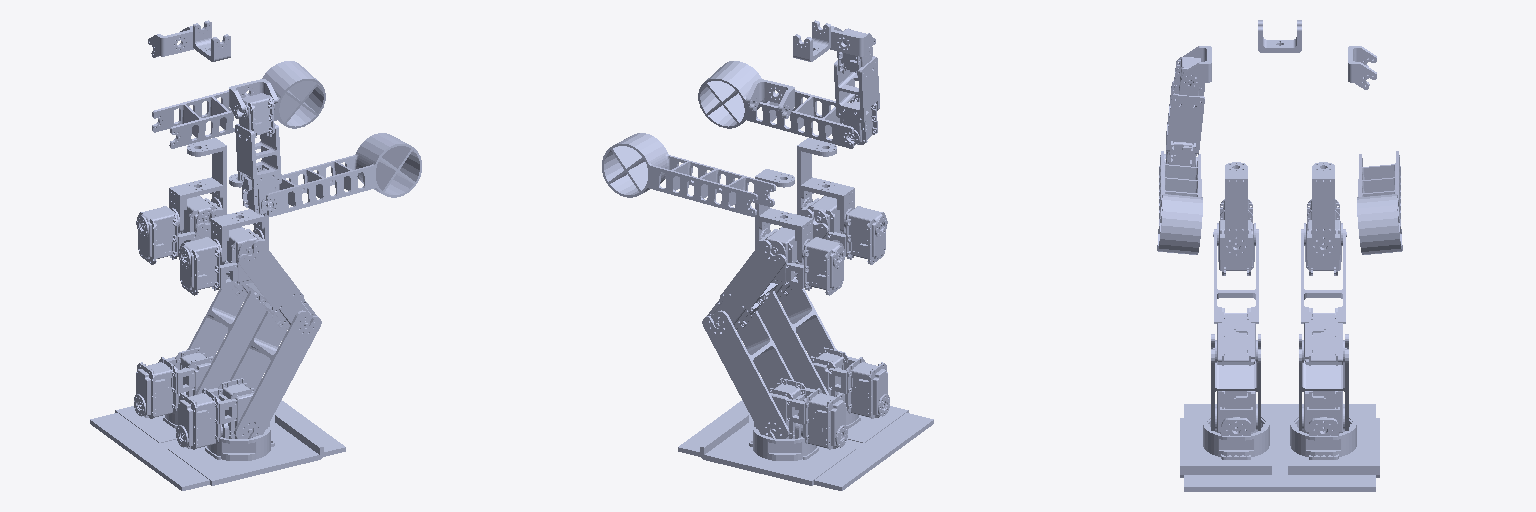
--- Render facts (derived) ---
Views: 3 orthographic renders of the robot side by side, from view 1: azimuth 30°, elevation 25°; view 2: azimuth 150°, elevation 25°; view 3: azimuth 270°, elevation 25°.
Model kubot23W with 23 links and 22 joints (22 revolute), rooted at base_link, posed every joint at zero.
Visible links, largest first — view 1: R_hand_pitch, L_hand_pitch, R_Knee, L_Knee, R_elbow_roll, R_Ankle_roll, R_Ankle_pitch, R_Foot, L_Ankle_pitch, R_Hip_roll, L_Hip_roll, R_Hip_pitch (+7 smaller); view 2: L_hand_pitch, R_hand_pitch, L_Knee, R_Knee, L_Ankle_roll, L_Foot, L_Ankle_pitch, R_Ankle_pitch, R_elbow_roll, L_Hip_roll, R_Hip_roll, L_Hip_pitch (+7 smaller); view 3: L_Foot, R_Foot, L_hand_pitch, R_hand_pitch, R_elbow_roll, L_Hip_pitch, R_Hip_pitch, L_Ankle_roll, R_Ankle_roll, L_Hip_yaw, R_Hip_yaw, L_Ankle_pitch (+8 smaller).
Boxes of the visible links, bbox=[...] form: R_hand_pitch: bbox=[266, 133, 421, 216]; L_hand_pitch: bbox=[152, 61, 325, 148]; R_Knee: bbox=[230, 310, 321, 438]; L_Knee: bbox=[187, 287, 266, 394]; R_elbow_roll: bbox=[235, 93, 281, 214]; R_Ankle_roll: bbox=[168, 414, 323, 485]; R_Ankle_pitch: bbox=[176, 378, 274, 449]; R_Foot: bbox=[132, 411, 345, 490]; L_Ankle_pitch: bbox=[134, 347, 213, 418]; R_Hip_roll: bbox=[179, 227, 264, 295]; L_Hip_roll: bbox=[136, 196, 222, 264]; R_Hip_pitch: bbox=[237, 226, 316, 329]; L_hand_pitch: bbox=[602, 133, 775, 216]; R_hand_pitch: bbox=[698, 61, 854, 148]; L_Knee: bbox=[702, 310, 793, 438]; R_Knee: bbox=[757, 287, 836, 394]; L_Ankle_roll: bbox=[700, 414, 855, 485]; L_Foot: bbox=[678, 412, 891, 490]; L_Ankle_pitch: bbox=[749, 378, 847, 449]; R_Ankle_pitch: bbox=[810, 347, 889, 418]; R_elbow_roll: bbox=[834, 28, 879, 144]; L_Hip_roll: bbox=[759, 227, 844, 295]; R_Hip_roll: bbox=[801, 196, 887, 264]; L_Hip_pitch: bbox=[707, 226, 786, 329]; L_Foot: bbox=[1272, 404, 1375, 491]; R_Foot: bbox=[1184, 404, 1287, 491]; L_hand_pitch: bbox=[1357, 151, 1402, 254]; R_hand_pitch: bbox=[1157, 151, 1202, 254]; R_elbow_roll: bbox=[1164, 57, 1204, 166]; L_Hip_pitch: bbox=[1301, 229, 1346, 365]; R_Hip_pitch: bbox=[1213, 229, 1258, 365]; L_Ankle_roll: bbox=[1288, 418, 1379, 477]; R_Ankle_roll: bbox=[1180, 418, 1271, 477]; L_Hip_yaw: bbox=[1312, 162, 1334, 259]; R_Hip_yaw: bbox=[1225, 162, 1247, 259]; L_Ankle_pitch: bbox=[1302, 391, 1344, 459].
Bounding box of the posed robot: 0.3273 × 0.2945 × 0.5607 m (x, y, z).
20 mesh visuals loaded from 23 distinct referenced files (20 binary STL); not drawn: 3 (reference not matched to a file when rendering).

The robot description file, URDF, robot "kubot23W":
<?xml version="1.0" encoding="utf-8"?>
<!-- This URDF was automatically created by SolidWorks to URDF Exporter! Originally created by Stephen Brawner ([email redacted]) 
     Commit Version: 1.6.0-1-g15f4949  Build Version: 1.6.7594.29634
     For more information, please see http://wiki.ros.org/sw_urdf_exporter -->
<robot
  name="kubot23W">
  <link
    name="base_link">
    <inertial>
      <origin
        xyz="-0.00019555 -5.8876E-06 -0.0016409"
        rpy="0 0 0" />
      <mass
        value="1.5013" />
      <inertia
        ixx="0.002447"
        ixy="0"
        ixz="0"
        iyy="0.0016369"
        iyz="0"
        izz="0.0026461" />
    </inertial>
    <visual>
      <origin
        xyz="0 0 0"
        rpy="0 0 0" />
      <geometry>
        <mesh
          filename="../meshes/base_link.STL" />
      </geometry>
      <material
        name="">
        <color
          rgba="0.79216 0.81961 0.93333 1" />
      </material>
    </visual>
    <collision>
      <origin
        xyz="0 0 0"
        rpy="0 0 0" />
      <geometry>
        <mesh
          filename="../meshes/base_link.STL" />
      </geometry>
    </collision>
  </link>
  <link
    name="L_Hip_yaw">
    <inertial>
      <origin
        xyz="0.0079905 7.3552E-16 0.037856"
        rpy="0 0 0" />
      <mass
        value="0.042373" />
      <inertia
        ixx="2.0934E-05"
        ixy="0"
        ixz="0"
        iyy="2.3301E-05"
        iyz="0"
        izz="8.0568E-06" />
    </inertial>
    <visual>
      <origin
        xyz="0 0 0"
        rpy="0 0 0" />
      <geometry>
        <mesh
          filename="../meshes/L_Hip_yaw.STL" />
      </geometry>
      <material
        name="">
        <color
          rgba="0.79216 0.81961 0.93333 1" />
      </material>
    </visual>
    <collision>
      <origin
        xyz="0 0 0"
        rpy="0 0 0" />
      <geometry>
        <mesh
          filename="../meshes/L_Hip_yaw.STL" />
      </geometry>
    </collision>
  </link>
  <joint
    name="L_Hip_yaw_joint"
    type="revolute">
    <origin
      xyz="0.036475 0.052758 -0.13016"
      rpy="0 0 0" />
    <parent
      link="base_link" />
    <child
      link="L_Hip_yaw" />
    <axis
      xyz="0 0 1" />
    <limit command_effort="40" current="10" effort="80" gear_velocity="10" lower="-0.01" upper="0.01" velocity="15"/>
    <dynamics damping="0.707" friction="0.1"/>
  </joint>
  <link
    name="L_Hip_roll">
    <inertial>
      <origin
        xyz="-0.026534 3.8609E-05 -0.015186"
        rpy="0 0 0" />
      <mass
        value="0.16184" />
      <inertia
        ixx="5.7094E-05"
        ixy="0"
        ixz="0"
        iyy="5.6447E-05"
        iyz="0"
        izz="3.5594E-05" />
    </inertial>
    <visual>
      <origin
        xyz="0 0 0"
        rpy="0 0 0" />
      <geometry>
        <mesh
          filename="../meshes/L_Hip_roll.STL" />
      </geometry>
      <material
        name="">
        <color
          rgba="0.79216 0.81961 0.93333 1" />
      </material>
    </visual>
    <collision>
      <origin
        xyz="0 0 0"
        rpy="0 0 0" />
      <geometry>
        <mesh
          filename="../meshes/L_Hip_roll.STL" />
      </geometry>
    </collision>
  </link>
  <joint
    name="L_Hip_roll_joint"
    type="revolute">
    <origin
      xyz="0 0 0"
      rpy="0 0 0" />
    <parent
      link="L_Hip_yaw" />
    <child
      link="L_Hip_roll" />
    <axis
      xyz="-1 0 0" />
    <limit command_effort="40" current="10" effort="80" gear_velocity="10" lower="-0.3" upper="0.175" velocity="15"/>
    <dynamics damping="0.707" friction="0.1"/>
  </joint>
  <link
    name="L_Hip_pitch">
    <inertial>
      <origin
        xyz="-0.00049308 0.00014975 -0.10339"
        rpy="0 0 0" />
      <mass
        value="0.13309" />
      <inertia
        ixx="0.00010704"
        ixy="0"
        ixz="0"
        iyy="7.9626E-05"
        iyz="0"
        izz="5.4203E-05" />
    </inertial>
    <visual>
      <origin
        xyz="0 0 0"
        rpy="0 0 0" />
      <geometry>
        <mesh
          filename="../meshes/L_Hip_pitch.STL" />
      </geometry>
      <material
        name="">
        <color
          rgba="0.79216 0.81961 0.93333 1" />
      </material>
    </visual>
    <collision>
      <origin
        xyz="0 0 0"
        rpy="0 0 0" />
      <geometry>
        <mesh
          filename="../meshes/L_Hip_pitch.STL" />
      </geometry>
    </collision>
  </link>
  <joint
    name="L_Hip_pitch_joint"
    type="revolute">
    <origin
      xyz="0 0 0"
      rpy="0 -0.592069 0" />
    <parent
      link="L_Hip_roll" />
    <child
      link="L_Hip_pitch" />
    <axis
      xyz="0 -1 0" />
    <limit command_effort="40" current="10" effort="80" gear_velocity="10" lower="-1.0" upper="2.094" velocity="15"/>
    <dynamics damping="0.707" friction="0.1"/>
  </joint>
  <link
    name="L_Knee">
    <inertial>
      <origin
        xyz="-0.0008 0.0002 -0.071592"
        rpy="0 0 0" />
      <mass
        value="0.064192" />
      <inertia
        ixx="0.00017283"
        ixy="0"
        ixz="0"
        iyy="0.00013756"
        iyz="0"
        izz="5.3025E-05" />
    </inertial>
    <visual>
      <origin
        xyz="0 0 0"
        rpy="0 0 0" />
      <geometry>
        <mesh
          filename="../meshes/L_Knee.STL" />
      </geometry>
      <material
        name="">
        <color
          rgba="0.79216 0.81961 0.93333 1" />
      </material>
    </visual>
    <collision>
      <origin
        xyz="0 0 0"
        rpy="0 0 0" />
      <geometry>
        <mesh
          filename="../meshes/L_Knee.STL" />
      </geometry>
    </collision>
  </link>
  <joint
    name="L_Knee_joint"
    type="revolute">
    <origin
      xyz="0 0 -0.142"
      rpy="0 1.160804 0" />
    <parent
      link="L_Hip_pitch" />
    <child
      link="L_Knee" />
    <axis
      xyz="0 -1 0" />
    <limit command_effort="40" current="10" effort="80" gear_velocity="10" lower="-1" upper="0.5" velocity="15"/>
    <dynamics damping="0.707" friction="0.1"/>
  </joint>
  <link
    name="L_Ankle_pitch">
    <inertial>
      <origin
        xyz="-0.023428 0.00014947 0.013986"
        rpy="0 0 0" />
      <mass
        value="0.202" />
      <inertia
        ixx="8.0067E-05"
        ixy="0"
        ixz="0"
        iyy="7.8271E-05"
        iyz="0"
        izz="4.9146E-05" />
    </inertial>
    <visual>
      <origin
        xyz="0 0 0"
        rpy="0 0 0" />
      <geometry>
        <mesh
          filename="../meshes/L_Ankle_pitch.STL" />
      </geometry>
      <material
        name="">
        <color
          rgba="0.79216 0.81961 0.93333 1" />
      </material>
    </visual>
    <collision>
      <origin
        xyz="0 0 0"
        rpy="0 0 0" />
      <geometry>
        <mesh
          filename="../meshes/L_Ankle_pitch.STL" />
      </geometry>
    </collision>
  </link>
  <joint
    name="L_Ankle_pitch_joint"
    type="revolute">
    <origin
      xyz="0 0 -0.15"
      rpy="0 -0.568735 0" />
    <parent
      link="L_Knee" />
    <child
      link="L_Ankle_pitch" />
    <axis
      xyz="0 -1 0" />
    <limit command_effort="40" current="10" effort="80" gear_velocity="10" lower="-0.3" upper="0.6" velocity="15"/>
    <dynamics damping="0.707" friction="0.1"/>
  </joint>
  <link
    name="L_Ankle_roll">
    <inertial>
      <origin
        xyz="-0.028824 0.0001 -0.014117"
        rpy="0 0 0" />
      <mass
        value="0.010759" />
      <inertia
        ixx="3.5206E-06"
        ixy="0"
        ixz="0"
        iyy="2.4389E-06"
        iyz="0"
        izz="1.2851E-06" />
    </inertial>
    <visual>
      <origin
        xyz="0 0 0"
        rpy="0 0 0" />
      <geometry>
        <mesh
          filename="../meshes/L_Ankle_roll.STL" />
      </geometry>
      <material
        name="">
        <color
          rgba="0.79216 0.81961 0.93333 1" />
      </material>
    </visual>
    <collision>
      <origin
        xyz="0 0 0"
        rpy="0 0 0" />
      <geometry>
        <mesh
          filename="../meshes/L_Ankle_roll.STL" />
      </geometry>
    </collision>
  </link>
  <joint
    name="L_Ankle_roll_joint"
    type="revolute">
    <origin
      xyz="0 0 0"
      rpy="0 0 0" />
    <parent
      link="L_Ankle_pitch" />
    <child
      link="L_Ankle_roll" />
    <axis
      xyz="-1 0 0" />
    <limit command_effort="40" current="10" effort="80" gear_velocity="10" lower="-0.05" upper="0.05" velocity="15"/>
    <dynamics damping="0.707" friction="0.1"/>
  </joint>
  <link
    name="L_Foot">
    <inertial>
      <origin
        xyz="0.0059202 0.012819 0.0039506"
        rpy="0 0 0" />
      <mass
        value="0.12872" />
      <inertia
        ixx="0.00013117"
        ixy="0"
        ixz="0"
        iyy="0.00029696"
        iyz="0"
        izz="0.00042612" />
    </inertial>
    <visual>
      <origin
        xyz="0 0 0"
        rpy="0 0 0" />
      <geometry>
        <mesh
          filename="../meshes/L_Foot.STL" />
      </geometry>
      <material
        name="">
        <color
          rgba="0.79216 0.81961 0.93333 1" />
      </material>
    </visual>
    <collision>
      <origin
        xyz="0 0 0"
        rpy="0 0 0" />
      <geometry>
        <mesh
          filename="../meshes/L_Foot.STL" />
      </geometry>
    </collision>
  </link>
  <joint
    name="L_Foot_joint"
    type="revolute">
    <origin
      xyz="0 0 -0.042"
      rpy="0 0 0" />
    <parent
      link="L_Ankle_roll" />
    <child
      link="L_Foot" />
    <axis
      xyz="0 0 1" />
    <limit command_effort="40" current="10" effort="80" gear_velocity="10" lower="-0.01" upper="0.01" velocity="15"/>
    <dynamics damping="0.707" friction="0.1"/>
  </joint>
  <link
    name="R_Hip_yaw">
    <inertial>
      <origin
        xyz="0.0079905 -7.6661E-09 0.037856"
        rpy="0 0 0" />
      <mass
        value="0.042373" />
      <inertia
        ixx="2.0934E-05"
        ixy="0"
        ixz="0"
        iyy="2.3301E-05"
        iyz="0"
        izz="8.0568E-06" />
    </inertial>
    <visual>
      <origin
        xyz="0 0 0"
        rpy="0 0 0" />
      <geometry>
        <mesh
          filename="../meshes/R_Hip_yaw.STL" />
      </geometry>
      <material
        name="">
        <color
          rgba="0.79216 0.81961 0.93333 1" />
      </material>
    </visual>
    <collision>
      <origin
        xyz="0 0 0"
        rpy="0 0 0" />
      <geometry>
        <mesh
          filename="../meshes/R_Hip_yaw.STL" />
      </geometry>
    </collision>
  </link>
  <joint
    name="R_Hip_yaw_joint"
    type="revolute">
    <origin
      xyz="0.036475 -0.051842 -0.13016"
      rpy="0 0 0" />
    <parent
      link="base_link" />
    <child
      link="R_Hip_yaw" />
    <axis
      xyz="0 0 1" />
    <limit command_effort="40" current="10" effort="80" gear_velocity="10" lower="-0.1" upper="0.1" velocity="15"/>
    <dynamics damping="0.707" friction="0.1"/>
  </joint>
  <link
    name="R_Hip_roll">
    <inertial>
      <origin
        xyz="-0.026534 -3.8626E-05 -0.015186"
        rpy="0 0 0" />
      <mass
        value="0.16184" />
      <inertia
        ixx="5.7094E-05"
        ixy="0"
        ixz="0"
        iyy="5.6447E-05"
        iyz="0"
        izz="3.5594E-05" />
    </inertial>
    <visual>
      <origin
        xyz="0 0 0"
        rpy="0 0 0" />
      <geometry>
        <mesh
          filename="../meshes/R_Hip_roll.STL" />
      </geometry>
      <material
        name="">
        <color
          rgba="0.79216 0.81961 0.93333 1" />
      </material>
    </visual>
    <collision>
      <origin
        xyz="0 0 0"
        rpy="0 0 0" />
      <geometry>
        <mesh
          filename="../meshes/R_Hip_roll.STL" />
      </geometry>
    </collision>
  </link>
  <joint
    name="R_Hip_roll_joint"
    type="revolute">
    <origin
      xyz="0 0 0"
      rpy="0 0 0" />
    <parent
      link="R_Hip_yaw" />
    <child
      link="R_Hip_roll" />
    <axis
      xyz="-1 0 0" />
    <limit command_effort="40" current="10" effort="80" gear_velocity="10" lower="-0.175" upper="0.3" velocity="15"/>
    <dynamics damping="0.707" friction="0.1"/>
  </joint>
  <link
    name="R_Hip_pitch">
    <inertial>
      <origin
        xyz="-0.0004978 -0.00014978 -0.10339"
        rpy="0 0 0" />
      <mass
        value="0.13309" />
      <inertia
        ixx="0.00010704"
        ixy="0"
        ixz="0"
        iyy="7.9626E-05"
        iyz="0"
        izz="5.4203E-05" />
    </inertial>
    <visual>
      <origin
        xyz="0 0 0"
        rpy="0 0 0" />
      <geometry>
        <mesh
          filename="../meshes/R_Hip_pitch.STL" />
      </geometry>
      <material
        name="">
        <color
          rgba="0.79216 0.81961 0.93333 1" />
      </material>
    </visual>
    <collision>
      <origin
        xyz="0 0 0"
        rpy="0 0 0" />
      <geometry>
        <mesh
          filename="../meshes/R_Hip_pitch.STL" />
      </geometry>
    </collision>
  </link>
  <joint
    name="R_Hip_pitch_joint"
    type="revolute">
    <origin
      xyz="0 0 0"
      rpy="0 -0.592069 0" />
    <parent
      link="R_Hip_roll" />
    <child
      link="R_Hip_pitch" />
    <axis
      xyz="0 1 0" />
    <limit command_effort="40" current="10" effort="80" gear_velocity="10" lower="-2.094" upper="1.0" velocity="15"/>
    <dynamics damping="0.707" friction="0.1"/>
  </joint>
  <link
    name="R_Knee">
    <inertial>
      <origin
        xyz="-0.0008 -0.00020005 -0.071592"
        rpy="0 0 0" />
      <mass
        value="0.064192" />
      <inertia
        ixx="0.00017283"
        ixy="0"
        ixz="0"
        iyy="0.00013756"
        iyz="0"
        izz="5.3025E-05" />
    </inertial>
    <visual>
      <origin
        xyz="0 0 0"
        rpy="0 0 0" />
      <geometry>
        <mesh
          filename="../meshes/R_Knee.STL" />
      </geometry>
      <material
        name="">
        <color
          rgba="0.79216 0.81961 0.93333 1" />
      </material>
    </visual>
    <collision>
      <origin
        xyz="0 0 0"
        rpy="0 0 0" />
      <geometry>
        <mesh
          filename="../meshes/R_Knee.STL" />
      </geometry>
    </collision>
  </link>
  <joint
    name="R_Knee_joint"
    type="revolute">
    <origin
      xyz="0 0 -0.142"
      rpy="0 1.160804 0" />
    <parent
      link="R_Hip_pitch" />
    <child
      link="R_Knee" />
    <axis
      xyz="0 1 0" />
    <limit command_effort="40" current="10" effort="80" gear_velocity="10" lower="-0.5" upper="1.0" velocity="15"/>
    <dynamics damping="0.707" friction="0.1"/>
  </joint>
  <link
    name="R_Ankle_pitch">
    <inertial>
      <origin
        xyz="-0.023731 -0.00015295 0.01407"
        rpy="0 0 0" />
      <mass
        value="0.20079" />
      <inertia
        ixx="7.9929E-05"
        ixy="0"
        ixz="0"
        iyy="7.8201E-05"
        iyz="0"
        izz="4.9077E-05" />
    </inertial>
    <visual>
      <origin
        xyz="0 0 0"
        rpy="0 0 0" />
      <geometry>
        <mesh
          filename="../meshes/R_Ankle_pitch.STL" />
      </geometry>
      <material
        name="">
        <color
          rgba="0.79216 0.81961 0.93333 1" />
      </material>
    </visual>
    <collision>
      <origin
        xyz="0 0 0"
        rpy="0 0 0" />
      <geometry>
        <mesh
          filename="../meshes/R_Ankle_pitch.STL" />
      </geometry>
    </collision>
  </link>
  <joint
    name="R_Ankle_pitch_joint"
    type="revolute">
    <origin
      xyz="0 0 -0.15"
      rpy="0 -0.568735 0" />
    <parent
      link="R_Knee" />
    <child
      link="R_Ankle_pitch" />
    <axis
      xyz="0 1 0" />
    <limit command_effort="40" current="10" effort="80" gear_velocity="10" lower="-0.6" upper="0.3" velocity="15"/>
    <dynamics damping="0.707" friction="0.1"/>
  </joint>
  <link
    name="R_Ankle_roll">
    <inertial>
      <origin
        xyz="-0.028824 -0.00010006 -0.014117"
        rpy="0 0 0" />
      <mass
        value="0.010759" />
      <inertia
        ixx="3.5206E-06"
        ixy="0"
        ixz="0"
        iyy="2.4389E-06"
        iyz="0"
        izz="1.2851E-06" />
    </inertial>
    <visual>
      <origin
        xyz="0 0 0"
        rpy="0 0 0" />
      <geometry>
        <mesh
          filename="../meshes/R_Ankle_roll.STL" />
      </geometry>
      <material
        name="">
        <color
          rgba="0.79216 0.81961 0.93333 1" />
      </material>
    </visual>
    <collision>
      <origin
        xyz="0 0 0"
        rpy="0 0 0" />
      <geometry>
        <mesh
          filename="../meshes/R_Ankle_roll.STL" />
      </geometry>
    </collision>
  </link>
  <joint
    name="R_Ankle_roll_joint"
    type="revolute">
    <origin
      xyz="0 0 0"
      rpy="0 0 0" />
    <parent
      link="R_Ankle_pitch" />
    <child
      link="R_Ankle_roll" />
    <axis
      xyz="-1 0 0" />
    <limit command_effort="40" current="10" effort="80" gear_velocity="10" lower="-0.05" upper="0.05" velocity="15"/>
    <dynamics damping="0.707" friction="0.1"/>
  </joint>
  <link
    name="R_Foot">
    <inertial>
      <origin
        xyz="0.0059202 -0.012819 0.0039506"
        rpy="0 0 0" />
      <mass
        value="0.12872" />
      <inertia
        ixx="0.00013117"
        ixy="0"
        ixz="0"
        iyy="0.00029696"
        iyz="0"
        izz="0.00042612" />
    </inertial>
    <visual>
      <origin
        xyz="0 0 0"
        rpy="0 0 0" />
      <geometry>
        <mesh
          filename="../meshes/R_Foot.STL" />
      </geometry>
      <material
        name="">
        <color
          rgba="0.79216 0.81961 0.93333 1" />
      </material>
    </visual>
    <collision>
      <origin
        xyz="0 0 0"
        rpy="0 0 0" />
      <geometry>
        <mesh
          filename="../meshes/R_Foot.STL" />
      </geometry>
    </collision>
  </link>
   <joint
    name="R_Foot_joint"
    type="revolute">
    <origin
      xyz="0 0 -0.042"
      rpy="0 0 0" />
    <parent
      link="R_Ankle_roll" />
    <child
      link="R_Foot" />
    <axis
      xyz="0 0 1" />
    <limit command_effort="40" current="10" effort="80" gear_velocity="10" lower="-0.01" upper="0.01" velocity="15"/>
    <dynamics damping="0.707" friction="0.1"/>
  </joint>
  <link
    name="L_shoulder_pitch">
    <inertial>
      <origin
        xyz="9.7314E-10 0.010248 -0.0016377"
        rpy="0 0 0" />
      <mass
        value="0.014469" />
      <inertia
        ixx="2.0393E-06"
        ixy="0"
        ixz="0"
        iyy="6.5772E-06"
        iyz="0"
        izz="6.757E-06" />
    </inertial>
    <visual>
      <origin
        xyz="0 0 0"
        rpy="0 0 0" />
      <geometry>
        <mesh
          filename="../meshes/L_shoulder_pitch.STL" />
      </geometry>
      <material
        name="">
        <color
          rgba="0.79216 0.81961 0.93333 1" />
      </material>
    </visual>
    <collision>
      <origin
        xyz="0 0 0"
        rpy="0 0 0" />
      <geometry>
        <mesh
          filename="../meshes/L_shoulder_pitch.STL" />
      </geometry>
    </collision>
  </link>
  <joint
    name="L_shoulder_pitch_joint"
    type="revolute">
    <origin
      xyz="0.027975 0.082208 0.091918"
      rpy="0 0 0" />
    <parent
      link="base_link" />
    <child
      link="L_shoulder_pitch" />
    <axis
      xyz="0 -1 0" />
    <limit command_effort="40" current="10" effort="80" gear_velocity="10" lower="-0.05" upper="0.05" velocity="15"/>
    <dynamics damping="0.707" friction="0.1"/>
  </joint>
  <link
    name="L_elbow_roll">
    <inertial>
      <origin
        xyz="-0.02074 1.0217E-05 -0.061881"
        rpy="0 0 0" />
      <mass
        value="0.12312" />
      <inertia
        ixx="4.1405E-05"
        ixy="0"
        ixz="0"
        iyy="4.4134E-05"
        iyz="0"
        izz="2.9326E-05" />
    </inertial>
    <visual>
      <origin
        xyz="0 0 0"
        rpy="0 0 0" />
      <geometry>
        <mesh
          filename="../meshes/L_elbow_roll.STL" />
      </geometry>
      <material
        name="">
        <color
          rgba="0.79216 0.81961 0.93333 1" />
      </material>
    </visual>
    <collision>
      <origin
        xyz="0 0 0"
        rpy="0 0 0" />
      <geometry>
        <mesh
          filename="../meshes/L_elbow_roll.STL" />
      </geometry>
    </collision>
  </link>
  <joint
    name="L_elbow_roll_joint"
    type="revolute">
    <origin
      xyz="0.020275 0.025656 -0.01045"
      rpy="0.1 0 0" />
    <parent
      link="L_shoulder_pitch" />
    <child
      link="L_elbow_roll" />
    <axis
      xyz="-1 0 0" />
    <limit command_effort="40" current="10" effort="80" gear_velocity="10" lower="-0.1" upper="0.03" velocity="15"/>
    <dynamics damping="0.707" friction="0.1"/>
  </joint>
  <link
    name="L_hand_pitch">
    <inertial>
      <origin
        xyz="1.6376E-15 -0.020275 -0.13605"
        rpy="0 0 0" />
      <mass
        value="0.085842" />
      <inertia
        ixx="0.00035605"
        ixy="0"
        ixz="0"
        iyy="0.00035569"
        iyz="0"
        izz="4.765E-05" />
    </inertial>
    <visual>
      <origin
        xyz="0 0 0"
        rpy="0 0 0" />
      <geometry>
        <mesh
          filename="../meshes/L_hand_pitch.STL" />
      </geometry>
      <material
        name="">
        <color
          rgba="0.79216 0.81961 0.93333 1" />
      </material>
    </visual>
    <collision>
      <origin
        xyz="0 0 0"
        rpy="0 0 0" />
      <geometry>
        <mesh
          filename="../meshes/L_hand_pitch.STL" />
      </geometry>
    </collision>
  </link>
  <joint
    name="L_hand_pitch_joint"
    type="revolute">
    <origin
      xyz="-0.02075 0.02075 -0.1231"
      rpy="0 -1.6 0" />
    <parent
      link="L_elbow_roll" />
    <child
      link="L_hand_pitch" />
    <axis
      xyz="0 -1 0" />
    <limit command_effort="40" current="10" effort="80" gear_velocity="10" lower="-0.01" upper="0.03" velocity="15"/>
    <dynamics damping="0.707" friction="0.1"/>
  </joint>
  <link
    name="R_shoulder_pitch">
    <inertial>
      <origin
        xyz="-9.7314E-10 -0.010248 -0.0016377"
        rpy="0 0 0" />
      <mass
        value="0.014469" />
      <inertia
        ixx="2.0393E-06"
        ixy="0"
        ixz="0"
        iyy="6.5772E-06"
        iyz="0"
        izz="6.757E-06" />
    </inertial>
    <visual>
      <origin
        xyz="0 0 0"
        rpy="0 0 0" />
      <geometry>
        <mesh
          filename="../meshes/R_shoulder_pitch.STL" />
      </geometry>
      <material
        name="">
        <color
          rgba="0.79216 0.81961 0.93333 1" />
      </material>
    </visual>
    <collision>
      <origin
        xyz="0 0 0"
        rpy="0 0 0" />
      <geometry>
        <mesh
          filename="../meshes/R_shoulder_pitch.STL" />
      </geometry>
    </collision>
  </link>
  <joint
    name="R_shoulder_pitch_joint"
    type="revolute">
    <origin
      xyz="0.027975 -0.081292 0.091918"
      rpy="0 0 0" />
    <parent
      link="base_link" />
    <child
      link="R_shoulder_pitch" />
    <axis
      xyz="0 1 0" />
    <limit command_effort="40" current="10" effort="80" gear_velocity="10" lower="-0.05" upper="0.05" velocity="15"/>
    <dynamics damping="0.707" friction="0.1"/>
  </joint>
  <link
    name="R_elbow_roll">
    <inertial>
      <origin
        xyz="-0.020741 -8.7962E-06 -0.061881"
        rpy="0 0 0" />
      <mass
        value="0.12312" />
      <inertia
        ixx="4.1405E-05"
        ixy="0"
        ixz="0"
        iyy="4.4134E-05"
        iyz="0"
        izz="2.9326E-05" />
    </inertial>
    <visual>
      <origin
        xyz="0 0 0"
        rpy="0 0 0" />
      <geometry>
        <mesh
          filename="../meshes/R_elbow_roll.STL" />
      </geometry>
      <material
        name="">
        <color
          rgba="0.79216 0.81961 0.93333 1" />
      </material>
    </visual>
    <collision>
      <origin
        xyz="0 0 0"
        rpy="0 0 0" />
      <geometry>
        <mesh
          filename="../meshes/R_elbow_roll.STL" />
      </geometry>
    </collision>
  </link>
  <joint
    name="R_elbow_roll_joint"
    type="revolute">
    <origin
      xyz="0.020275 -0.025656 -0.01045"
      rpy="-0.1 0 0" />
    <parent
      link="R_shoulder_pitch" />
    <child
      link="R_elbow_roll" />
    <axis
      xyz="-1 0 0" />
    <limit command_effort="40" current="10" effort="80" gear_velocity="10" lower="-0.03" upper="0.1" velocity="15"/>
    <dynamics damping="0.707" friction="0.1"/>
  </joint>
  <link
    name="R_hand_pitch">
    <inertial>
      <origin
        xyz="-6.9389E-16 0.020275 -0.13605"
        rpy="0 0 0" />
      <mass
        value="0.085842" />
      <inertia
        ixx="0.00035605"
        ixy="0"
        ixz="0"
        iyy="0.00035569"
        iyz="0"
        izz="4.765E-05" />
    </inertial>
    <visual>
      <origin
        xyz="0 0 0"
        rpy="0 0 0" />
      <geometry>
        <mesh
          filename="../meshes/R_hand_pitch.STL" />
      </geometry>
      <material
        name="">
        <color
          rgba="0.79216 0.81961 0.93333 1" />
      </material>
    </visual>
    <collision>
      <origin
        xyz="0 0 0"
        rpy="0 0 0" />
      <geometry>
        <mesh
          filename="../meshes/R_hand_pitch.STL" />
      </geometry>
    </collision>
  </link>
  <joint
    name="R_hand_pitch_joint"
    type="revolute">
    <origin
      xyz="-0.02075 -0.02075 -0.1231"
      rpy="0 -1.6 0" />
    <parent
      link="R_elbow_roll" />
    <child
      link="R_hand_pitch" />
    <axis
      xyz="0 1 0" />
    <limit command_effort="40" current="10" effort="80" gear_velocity="10" lower="-0.03" upper="0.01" velocity="15"/>
    <dynamics damping="0.707" friction="0.1"/>
  </joint>
  <link
    name="Neck_yaw">
    <inertial>
      <origin
        xyz="1.0547E-15 1.4294E-15 0.010333"
        rpy="0 0 0" />
      <mass
        value="0.014237" />
      <inertia
        ixx="6.6446E-06"
        ixy="0"
        ixz="0"
        iyy="1.9564E-06"
        iyz="0"
        izz="6.2867E-06" />
    </inertial>
    <visual>
      <origin
        xyz="0 0 0"
        rpy="0 0 0" />
      <geometry>
        <mesh
          filename="../meshes/Neck_yaw.STL" />
      </geometry>
      <material
        name="">
        <color
          rgba="0.79216 0.81961 0.93333 1" />
      </material>
    </visual>
    <collision>
      <origin
        xyz="0 0 0"
        rpy="0 0 0" />
      <geometry>
        <mesh
          filename="../meshes/Neck_yaw.STL" />
      </geometry>
    </collision>
  </link>
  <joint
    name="Neck_yaw_joint"
    type="revolute">
    <origin
      xyz="0.026225 0.00045775 0.11187"
      rpy="0 0 0" />
    <parent
      link="base_link" />
    <child
      link="Neck_yaw" />
    <axis
      xyz="0 0 -1" />
    <limit command_effort="40" current="10" effort="80" gear_velocity="10" lower="-0.15" upper="0.15" velocity="15"/>
    <dynamics damping="0.707" friction="0.1"/>
  </joint>
  <link
    name="head_pitch">
    <inertial>
      <origin
        xyz="-0.00087615 -0.0004928 0.038502"
        rpy="0 0 0" />
      <mass
        value="0.14082" />
      <inertia
        ixx="0.0001309"
        ixy="0"
        ixz="0"
        iyy="2.5779E-05"
        iyz="0"
        izz="0.00012811" />
    </inertial>
    <visual>
      <origin
        xyz="0 0 0"
        rpy="0 0 0" />
      <geometry>
        <mesh
          filename="../meshes/head_pitch.STL" />
      </geometry>
      <material
        name="">
        <color
          rgba="0.79216 0.81961 0.93333 1" />
      </material>
    </visual>
    <collision>
      <origin
        xyz="0 0 0"
        rpy="0 0 0" />
      <geometry>
        <mesh
          filename="../meshes/head_pitch.STL" />
      </geometry>
    </collision>
  </link>
  <joint
    name="head_pitch_joint"
    type="revolute">
    <origin
      xyz="0 0 0.0275"
      rpy="0 0 0" />
    <parent
      link="Neck_yaw" />
    <child
      link="head_pitch" />
    <axis
      xyz="0 1 0" />
    <limit command_effort="40" current="10" effort="80" gear_velocity="10" lower="-0.05" upper="0.05" velocity="15"/>
    <dynamics damping="0.707" friction="0.1"/>
  </joint>
</robot>
